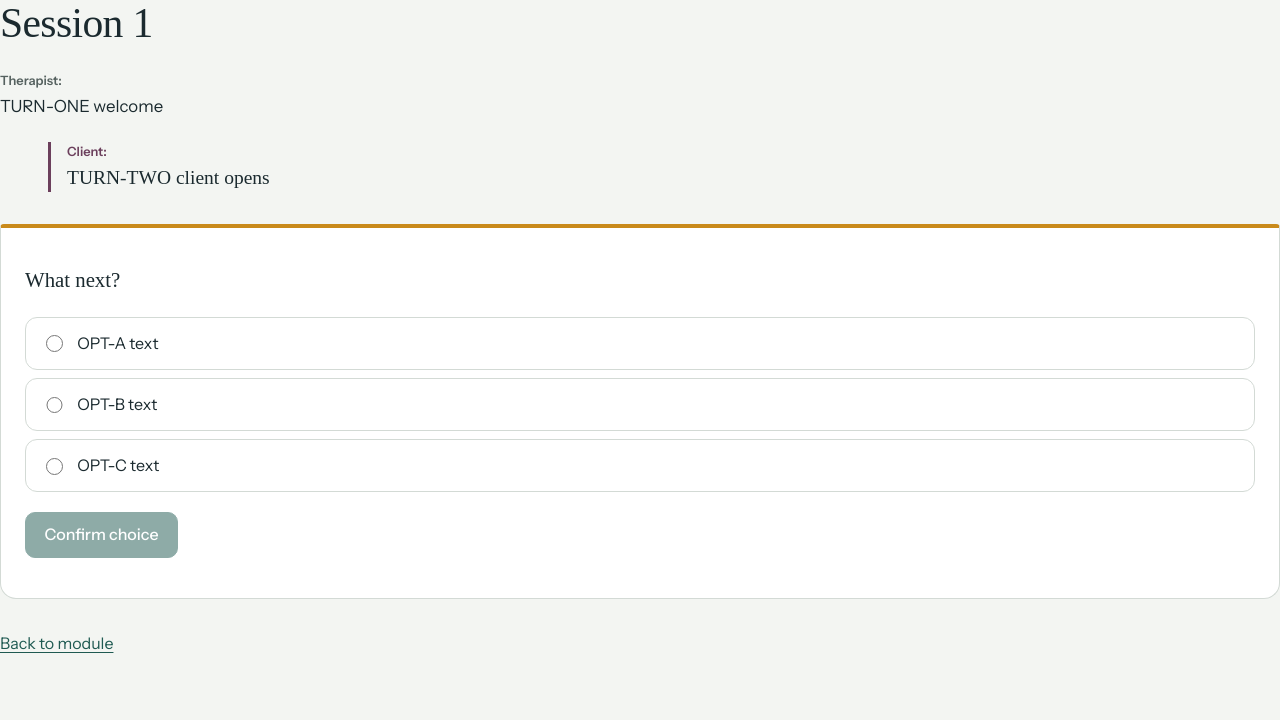
it: WalkthroughPage › choosing an option saves { sessionId, decisionId, optionId } and reveals fit, note, actual, rationale
Later steps or results of the test are not shown.
Expected: the button "Confirm choice" is disabled, [25,512,178,558]
Step 1. Click the radio button labelled "OPT-B text" → {"x": 55, "y": 405}, box [46,397,63,413]
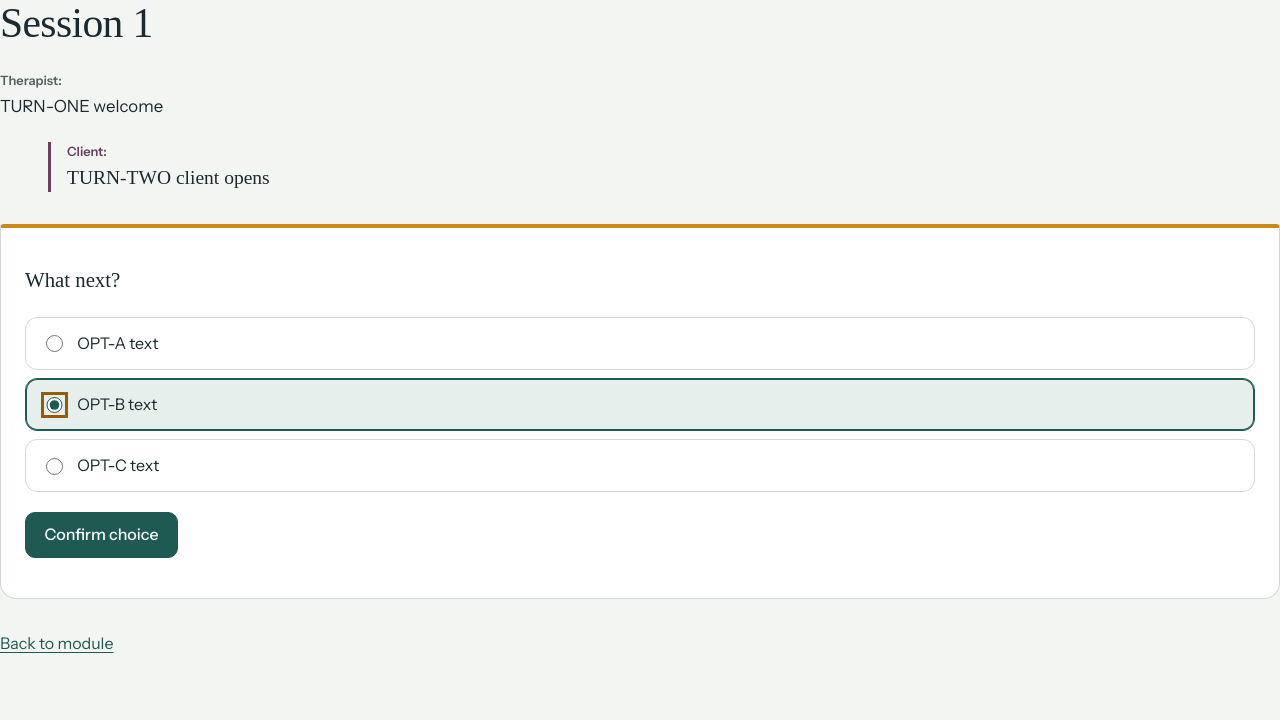
Step 2. Click the button "Confirm choice" → {"x": 101, "y": 535}, box [25,512,178,558]
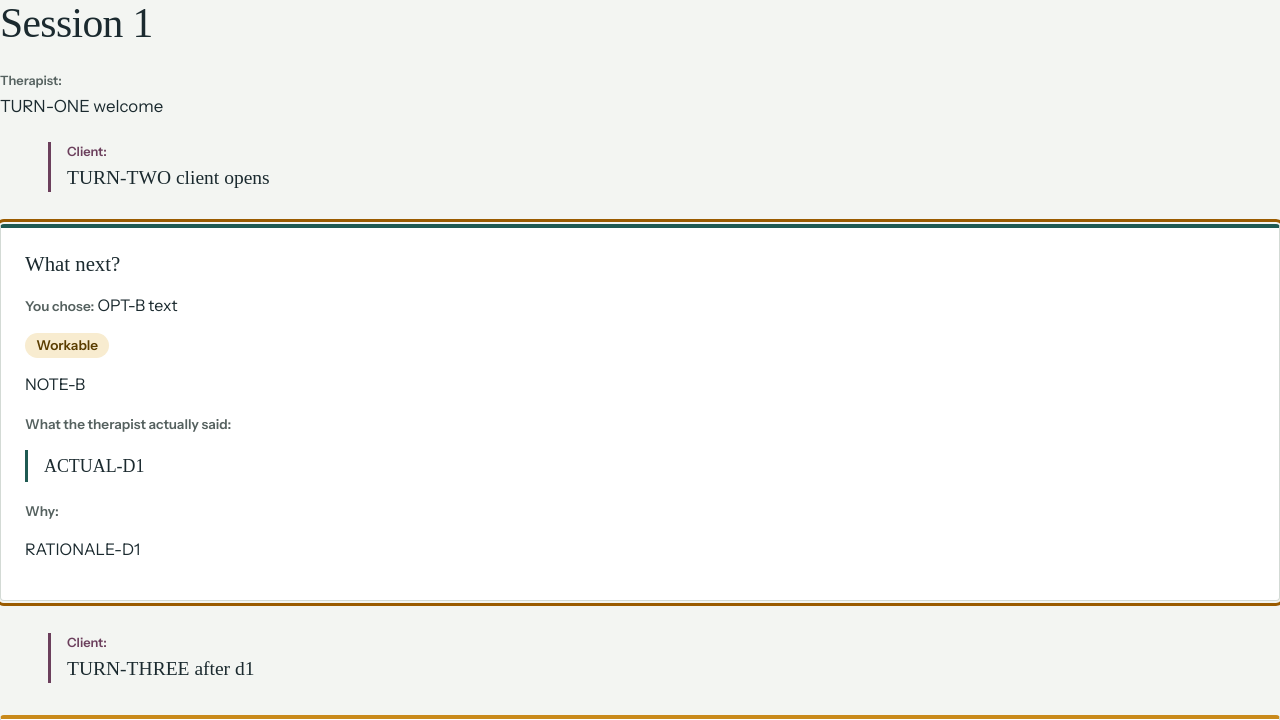
Result: the text "NOTE-B" is shown at [25,374,85,394]
Result: the text "Workable" is shown at [25,333,109,358]
Result: the text "ACTUAL-D1" is shown at [25,450,1255,482]
